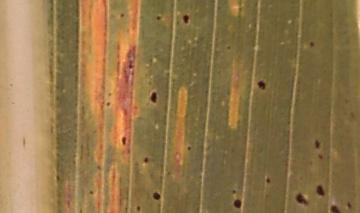tarspot: (146, 88, 161, 106), (293, 190, 309, 206), (148, 188, 165, 203), (255, 76, 268, 92), (229, 197, 245, 209), (327, 201, 343, 213), (52, 170, 64, 186), (314, 182, 325, 199), (305, 37, 318, 51), (311, 136, 323, 151), (180, 12, 193, 25), (182, 143, 196, 154), (222, 42, 234, 54), (87, 187, 97, 200), (102, 100, 116, 109), (153, 12, 164, 23), (119, 135, 129, 147), (344, 200, 354, 212), (140, 155, 151, 165), (133, 202, 144, 212), (228, 187, 240, 196), (118, 10, 127, 22), (263, 175, 273, 185), (105, 90, 115, 100)
